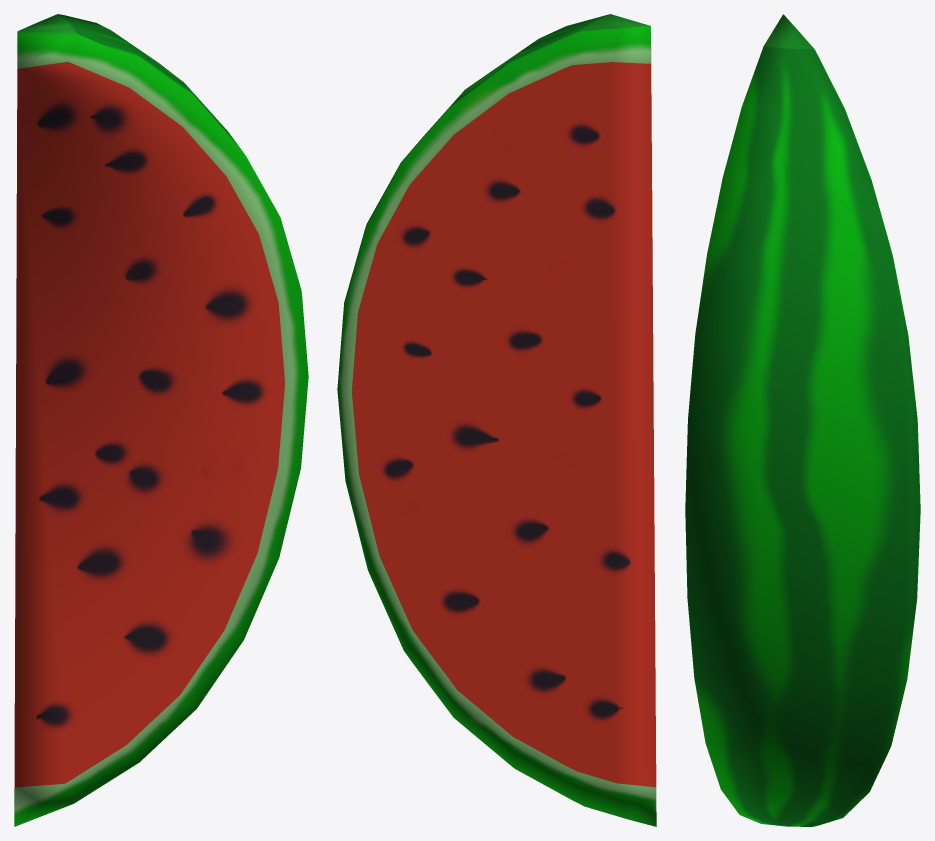
The model's file is melonSliced.fbx.
3 views of the same model, side by side, from view 1: azimuth 30°, elevation 25°; view 2: azimuth 150°, elevation 25°; view 3: azimuth 270°, elevation 25° (orthographic).
Parts seen in each view (by area): view 1: melonSliced; view 2: melonSliced; view 3: melonSliced.
Part boxes in pixels (box(x1,y1,x2,y2)): melonSliced: box(14, 14, 308, 826); melonSliced: box(337, 14, 656, 826); melonSliced: box(685, 14, 920, 826).
Size of the model in its own units: 0.1153 by 0.3326 by 0.0881.
Materials: 1 (1 with a texture image).
